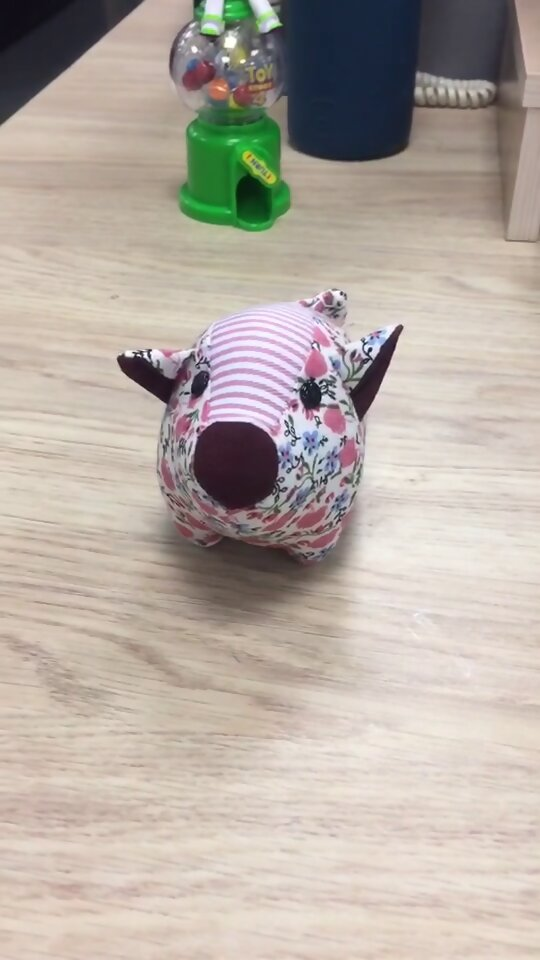pig: (113, 283, 404, 570)
